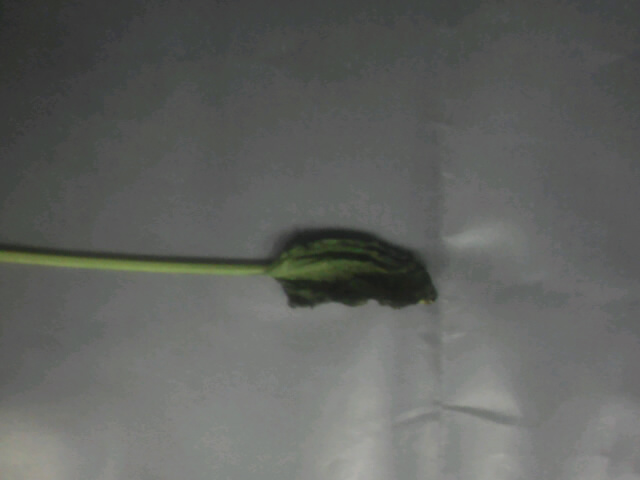yellow: (154, 200, 463, 333)
